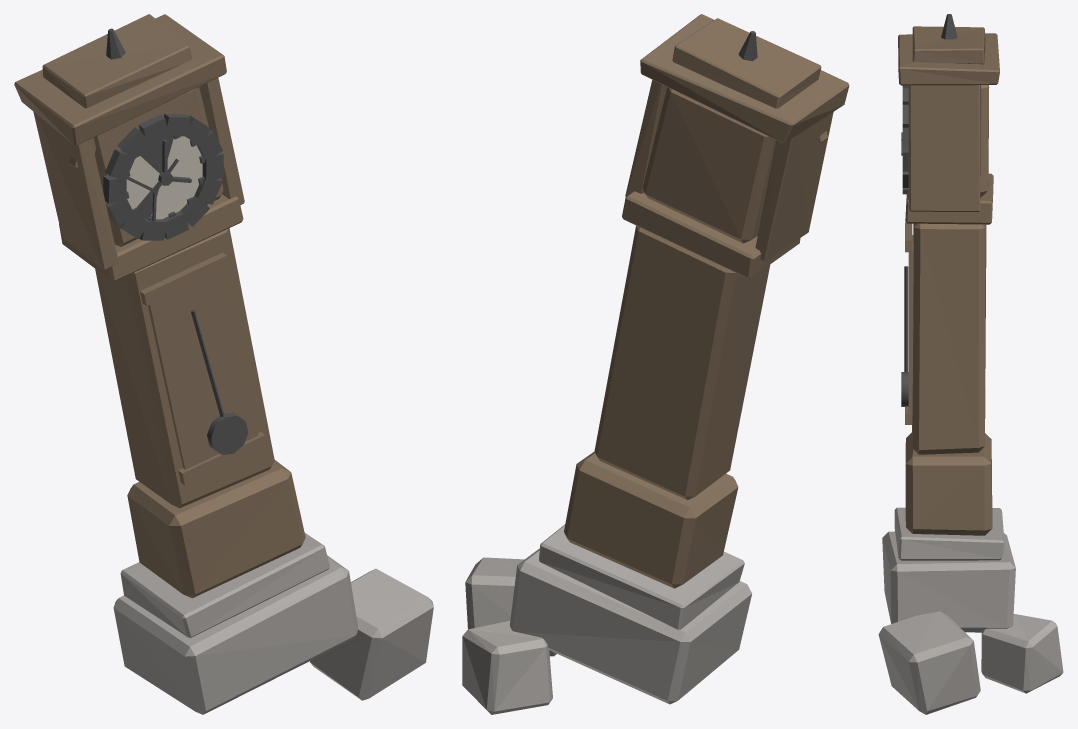
Rendered from standing_clock_tilted.glb.
3 renders of one model, left to right at view 1: azimuth 30°, elevation 25°; view 2: azimuth 150°, elevation 25°; view 3: azimuth 270°, elevation 25°, orthographic. The views are drawn at different scales.
Visible parts, largest first — view 1: wood, stone, iron, plaster; view 2: wood, stone; view 3: wood, stone, iron.
Part boxes in pixels (bbox=[...]): wood: bbox=[14, 14, 305, 598]; stone: bbox=[113, 533, 433, 714]; iron: bbox=[103, 28, 248, 454]; plaster: bbox=[126, 136, 202, 219]; wood: bbox=[564, 14, 849, 588]; stone: bbox=[462, 524, 752, 714]; wood: bbox=[898, 26, 999, 535]; stone: bbox=[878, 507, 1063, 714]; iron: bbox=[901, 14, 957, 406].
Size of the model in its own units: 1.49 by 2.7 by 0.7726.
